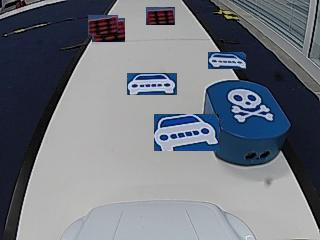danger: (230, 90, 270, 123)
